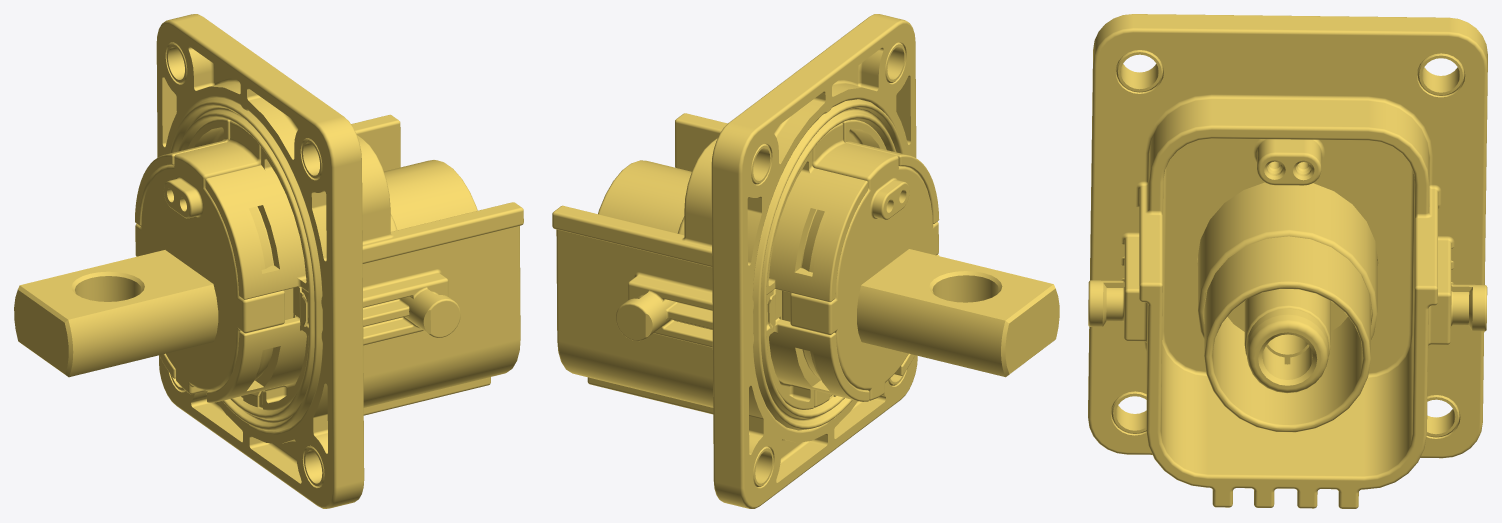
File: EVH1-H1ZJ-WA.glb
The picture shows the model from 3 angles, left to right: view 1: azimuth 30°, elevation 25°; view 2: azimuth 150°, elevation 25°; view 3: azimuth 270°, elevation 25°; orthographic projection. The views are drawn at different scales.
Visible parts, largest first — view 1: EVH1-H1ZJ-WA-CN v1; view 2: EVH1-H1ZJ-WA-CN v1; view 3: EVH1-H1ZJ-WA-CN v1.
Part boxes in pixels (<box>): EVH1-H1ZJ-WA-CN v1: <box>14,14,523,508</box>; EVH1-H1ZJ-WA-CN v1: <box>552,14,1059,508</box>; EVH1-H1ZJ-WA-CN v1: <box>1088,14,1487,508</box>.
Bounding box in the file's own units: 7.47 × 6.6 × 5.56.
